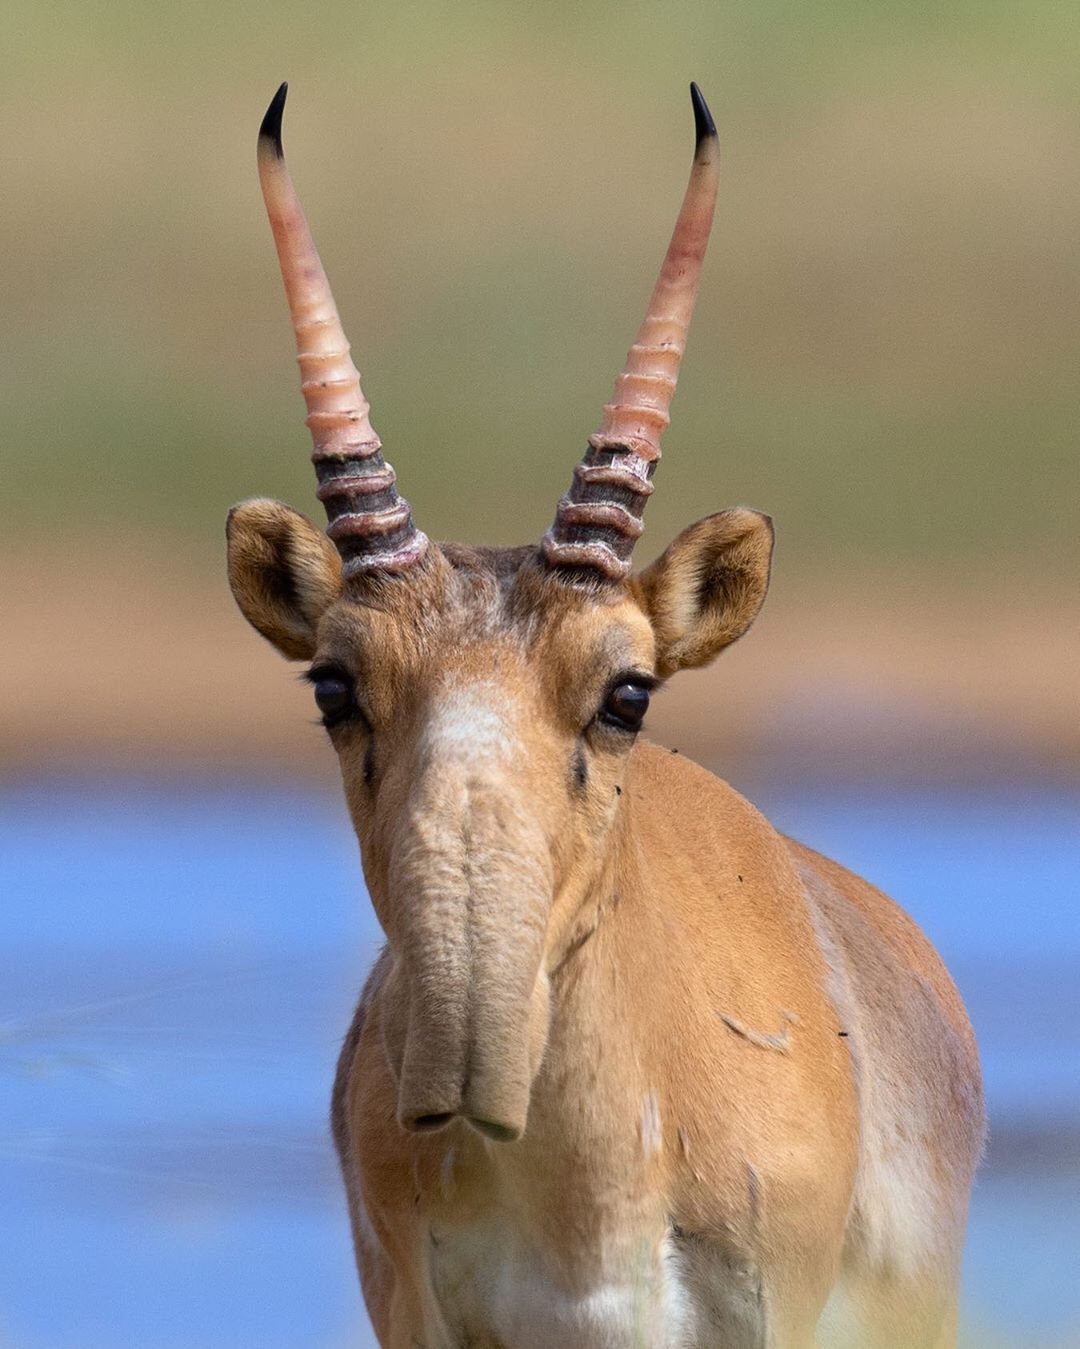saiga: (223, 78, 996, 1349)
